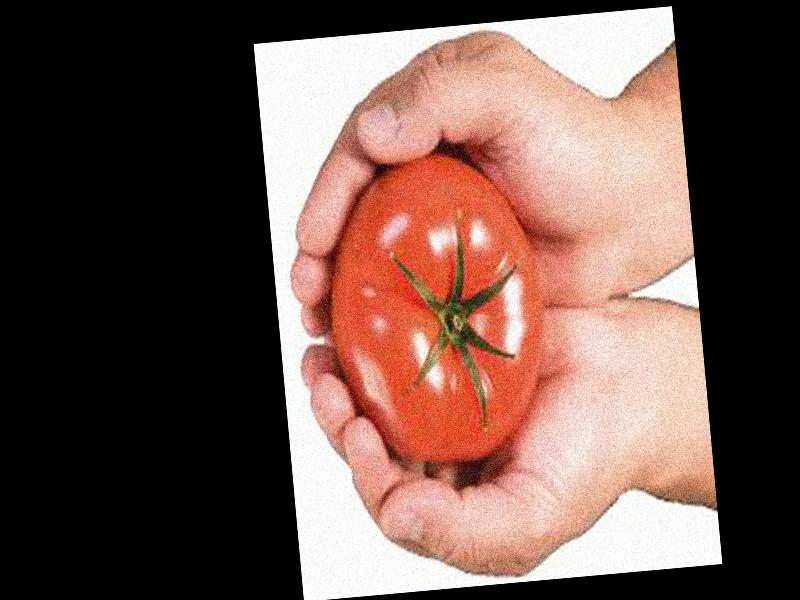Tomato: (320, 145, 552, 473)
